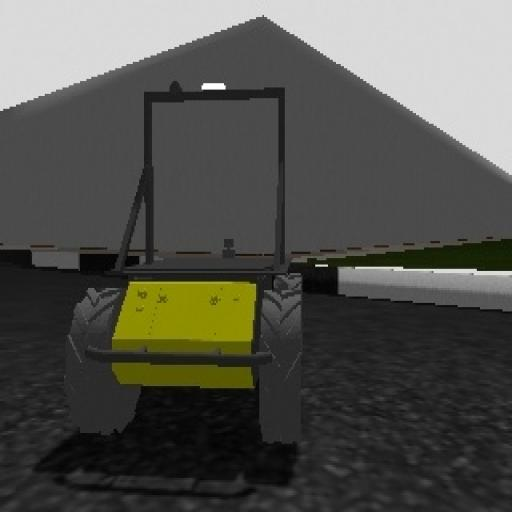huskya200: (77, 75, 318, 471)
